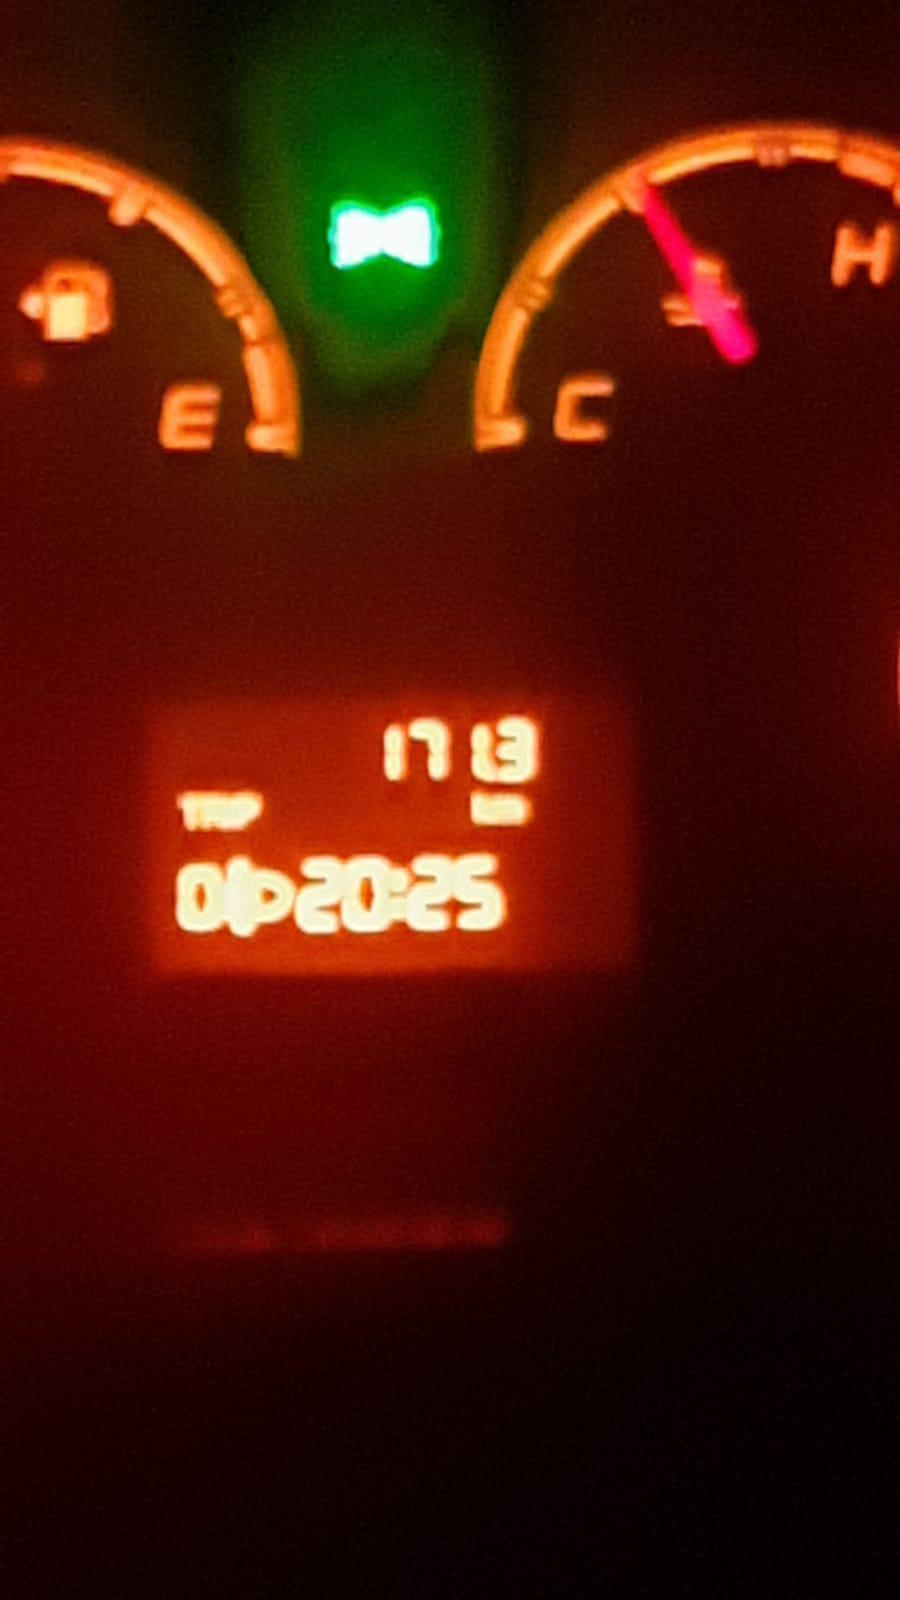0: (341, 853, 392, 934), (173, 860, 226, 935)
1: (380, 723, 405, 784), (469, 721, 493, 781)
2: (291, 854, 342, 937), (405, 853, 453, 932)
3: (495, 715, 538, 784)
5: (453, 851, 507, 931)
7: (405, 715, 452, 782)
X: (497, 790, 536, 831), (236, 788, 267, 833), (470, 787, 496, 834), (174, 789, 200, 833), (200, 789, 223, 835), (390, 865, 408, 923), (223, 788, 236, 837)
odometer: (134, 682, 649, 989)
